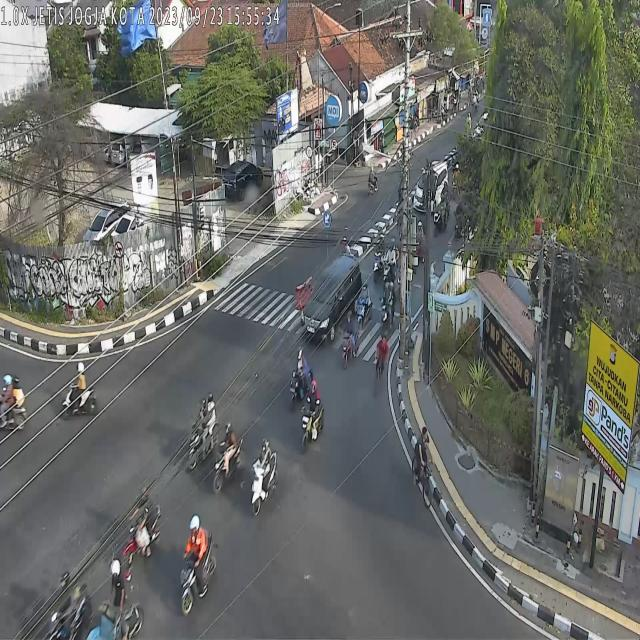car: (301, 254, 362, 342), (413, 160, 448, 213)
motorcycle: (122, 486, 162, 582), (179, 513, 217, 614), (47, 572, 93, 640), (61, 358, 98, 418), (250, 438, 279, 514), (190, 394, 218, 469), (213, 422, 242, 494), (0, 372, 29, 429), (301, 380, 324, 451), (290, 348, 313, 412), (340, 314, 360, 371), (434, 180, 451, 240), (382, 238, 400, 290), (380, 281, 396, 335), (357, 282, 371, 330), (373, 234, 386, 282), (367, 165, 378, 199)
